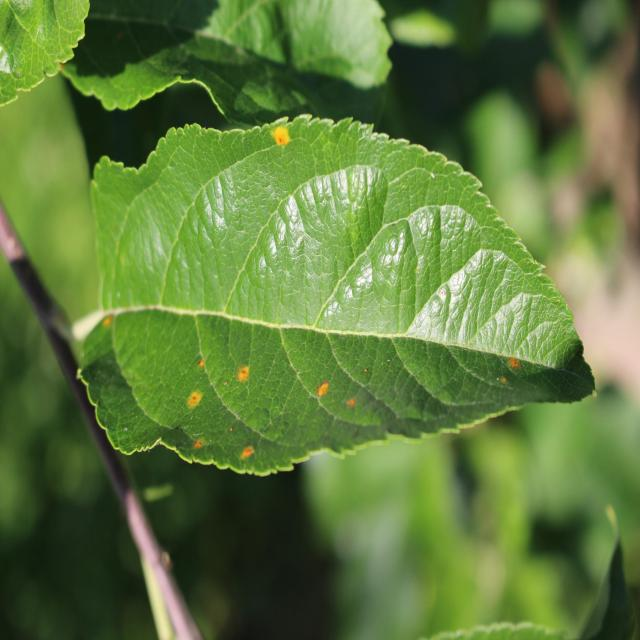Rust: (495, 340, 527, 410), (256, 119, 304, 161), (235, 431, 271, 478), (230, 347, 259, 392), (94, 296, 124, 339), (184, 428, 214, 465), (182, 376, 207, 414), (316, 372, 340, 409), (346, 388, 360, 433), (193, 351, 211, 372)
